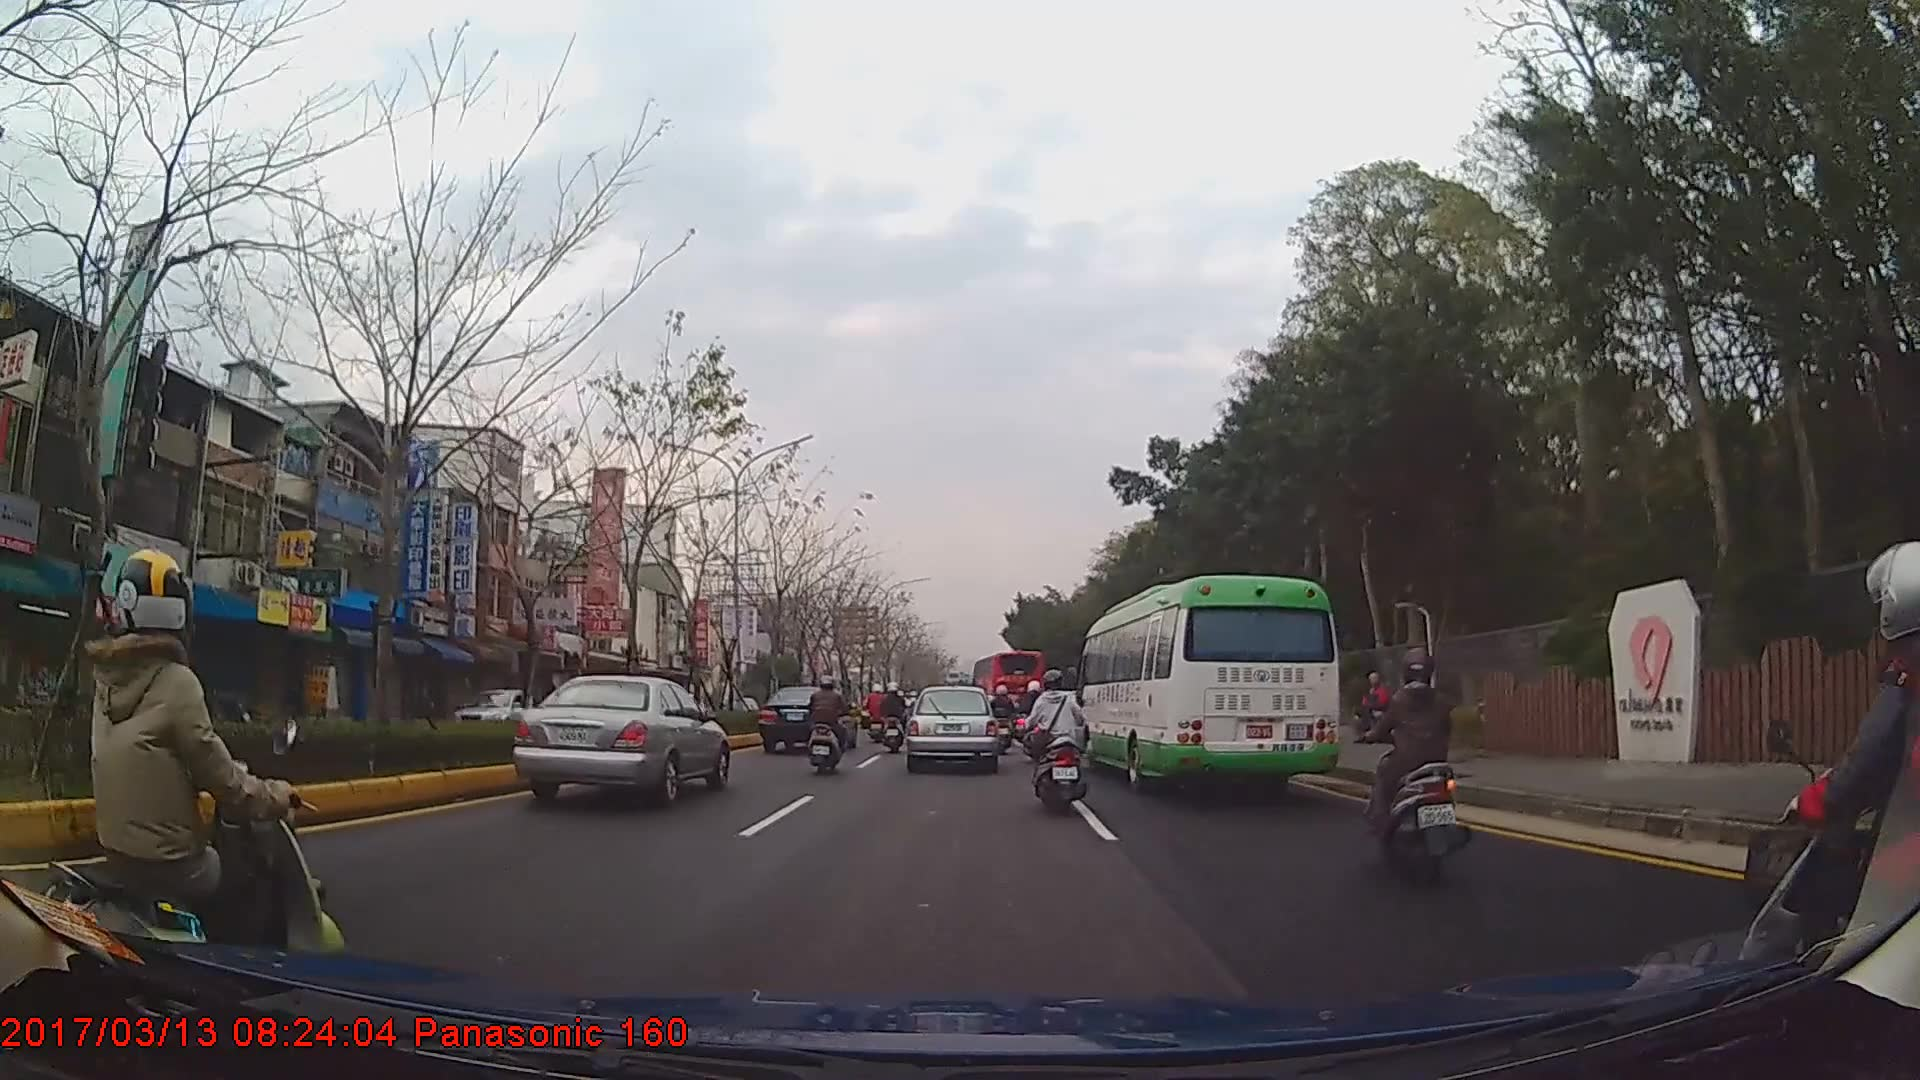pedestrian: (1355, 673, 1393, 749)
rider: (45, 551, 354, 1036), (1731, 540, 1920, 1058), (1362, 650, 1473, 875), (1023, 671, 1084, 817), (807, 674, 850, 775), (880, 683, 907, 754), (987, 686, 1014, 755), (1022, 681, 1049, 745), (865, 683, 892, 745), (904, 691, 924, 728)
vehicle: (1071, 574, 1341, 793), (512, 672, 728, 810), (903, 686, 1000, 772), (759, 683, 859, 753), (972, 648, 1043, 722)
